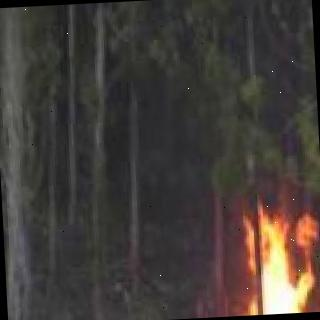fire: (183, 218, 320, 318)
